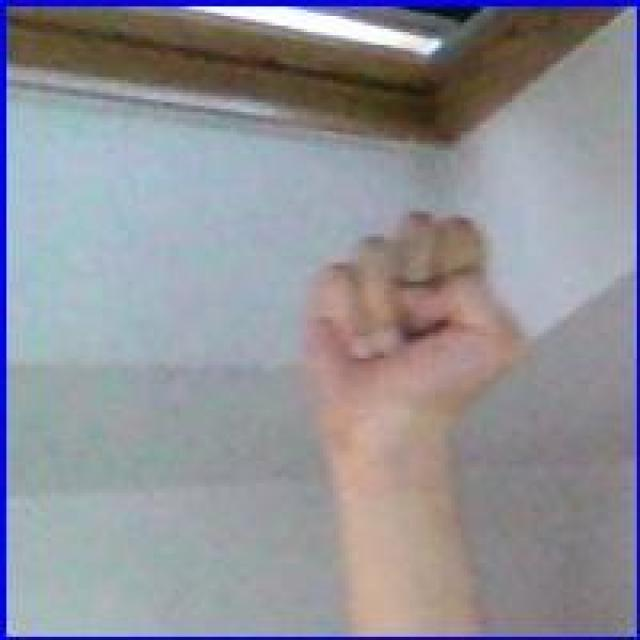S: (291, 206, 525, 446)
